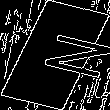N_W: (11, 28, 99, 82)
